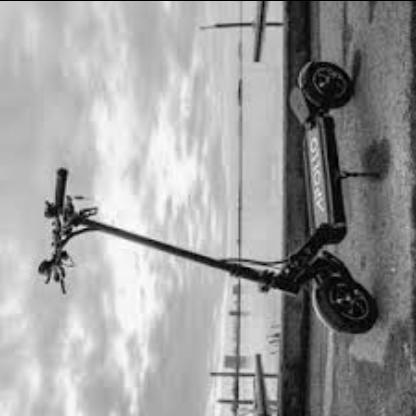bike: (36, 99, 380, 337), (39, 183, 379, 336)
